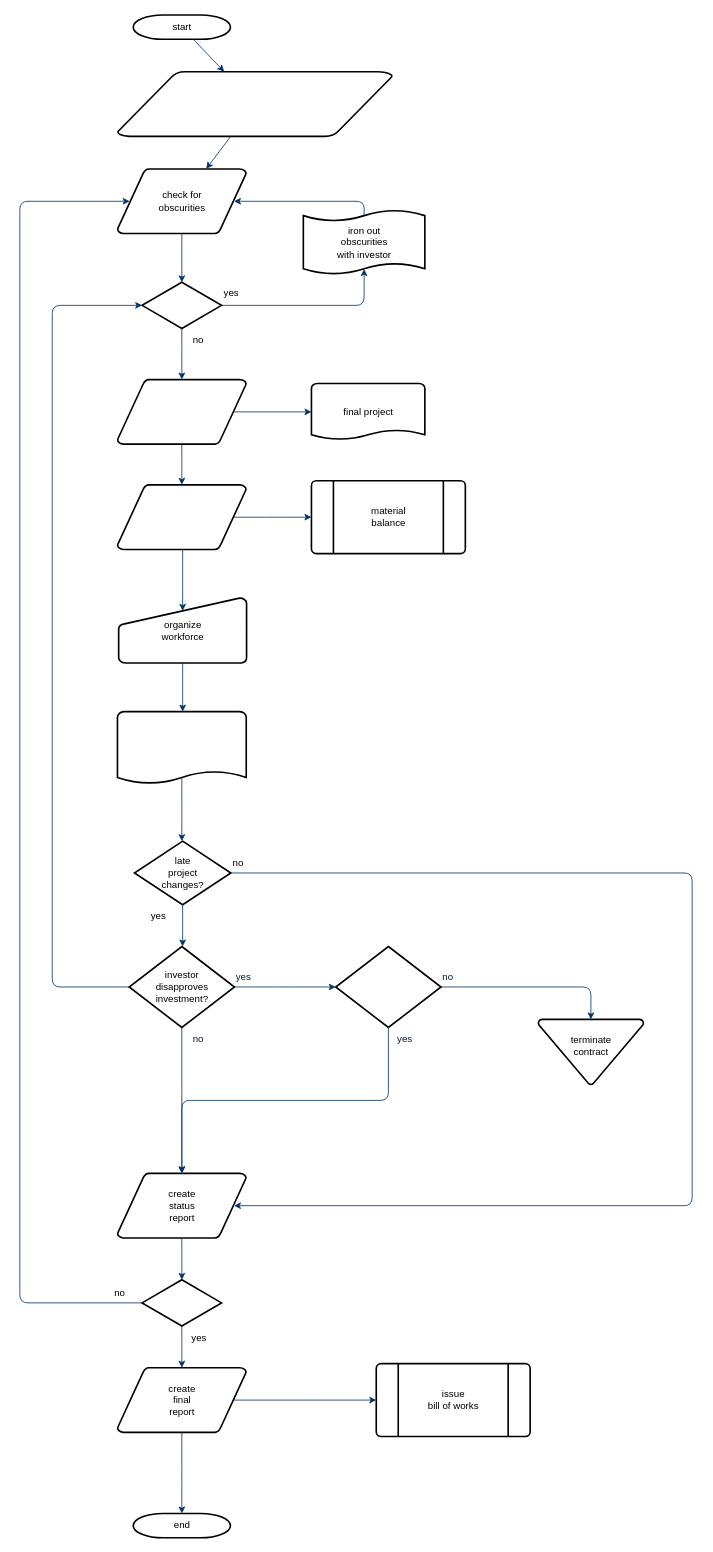
Image size: 713x1552. Some labels were removed from this diagram. The box of each missing label's shape, as (x1, y1, x2, y2) in pixels:
agreement?: (335, 945, 441, 1028)
Clients Onboarding/Offboarding Offboard existing client SUBMIT: (116, 70, 393, 137)
create Gantt diagram: (116, 710, 247, 785)
create material specification: (116, 378, 247, 445)
obscurities?: (141, 281, 222, 329)
order material: (116, 484, 247, 550)
project complete?: (141, 1279, 222, 1326)
